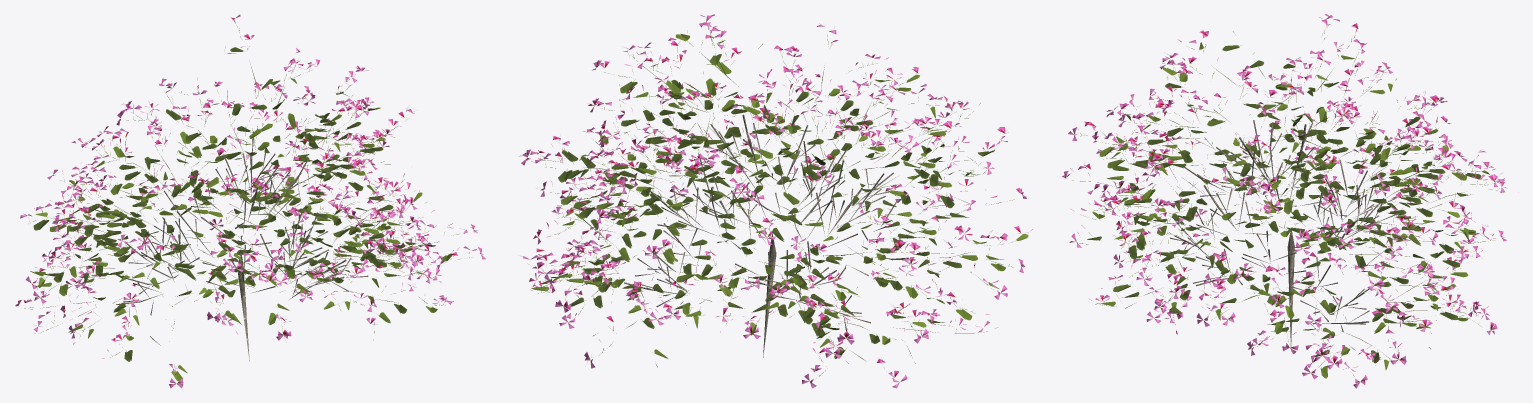
Rendered from prop-tree-orchid.42b1d828.glb.
The picture shows the model from 3 angles, left to right: view 1: azimuth 30°, elevation 25°; view 2: azimuth 150°, elevation 25°; view 3: azimuth 270°, elevation 25°; orthographic projection. The views are drawn at different scales.
Visible parts, largest first — view 1: Bauhinia_blakeana_HD_Bauhinia leaf 01_0, Bauhinia_blakeana_HD_Bauhinia petal 02_0, Bauhinia_blakeana_HD_Bauhinia leaf 03_0, Bauhinia_blakeana_HD_Bauhinia blak branches_0, Bauhinia_blakeana_HD_Bauhinia petal 03_0, Bauhinia_blakeana_HD_Bauhinia blak twig_0, Bauhinia_blakeana_HD_Bauhinia leaf 02_0, Bauhinia_blakeana_HD_Bauhinia petal 01_0, Bauhinia_blakeana_HD_Bauhinia leaf 04_0, Bauhinia_blakeana_HD_Bauhinia recept 03_0, Bauhinia_blakeana_HD_Bauhinia flw stalk 01_0, Bauhinia_blakeana_HD_Bauhinia blak trunk_0; view 2: Bauhinia_blakeana_HD_Bauhinia leaf 01_0, Bauhinia_blakeana_HD_Bauhinia petal 02_0, Bauhinia_blakeana_HD_Bauhinia blak branches_0, Bauhinia_blakeana_HD_Bauhinia leaf 03_0, Bauhinia_blakeana_HD_Bauhinia petal 03_0, Bauhinia_blakeana_HD_Bauhinia leaf 02_0, Bauhinia_blakeana_HD_Bauhinia petal 01_0, Bauhinia_blakeana_HD_Bauhinia blak twig_0, Bauhinia_blakeana_HD_Bauhinia leaf 04_0, Bauhinia_blakeana_HD_Bauhinia flw stalk 01_0, Bauhinia_blakeana_HD_Bauhinia recept 03_0, Bauhinia_blakeana_HD_Bauhinia blak trunk_0; view 3: Bauhinia_blakeana_HD_Bauhinia leaf 01_0, Bauhinia_blakeana_HD_Bauhinia petal 02_0, Bauhinia_blakeana_HD_Bauhinia leaf 03_0, Bauhinia_blakeana_HD_Bauhinia blak branches_0, Bauhinia_blakeana_HD_Bauhinia petal 03_0, Bauhinia_blakeana_HD_Bauhinia petal 01_0, Bauhinia_blakeana_HD_Bauhinia leaf 02_0, Bauhinia_blakeana_HD_Bauhinia blak twig_0, Bauhinia_blakeana_HD_Bauhinia leaf 04_0, Bauhinia_blakeana_HD_Bauhinia flw stalk 01_0, Bauhinia_blakeana_HD_Bauhinia recept 03_0, Bauhinia_blakeana_HD_Bauhinia blak trunk_0.
Part boxes in pixels (<box>): Bauhinia_blakeana_HD_Bauhinia leaf 01_0: <box>33,80,435,361</box>; Bauhinia_blakeana_HD_Bauhinia petal 02_0: <box>15,14,481,383</box>; Bauhinia_blakeana_HD_Bauhinia leaf 03_0: <box>30,53,437,373</box>; Bauhinia_blakeana_HD_Bauhinia blak branches_0: <box>116,131,368,315</box>; Bauhinia_blakeana_HD_Bauhinia petal 03_0: <box>15,46,485,388</box>; Bauhinia_blakeana_HD_Bauhinia blak twig_0: <box>30,36,459,367</box>; Bauhinia_blakeana_HD_Bauhinia leaf 02_0: <box>50,47,452,323</box>; Bauhinia_blakeana_HD_Bauhinia petal 01_0: <box>23,17,457,341</box>; Bauhinia_blakeana_HD_Bauhinia leaf 04_0: <box>35,107,422,381</box>; Bauhinia_blakeana_HD_Bauhinia recept 03_0: <box>30,19,469,367</box>; Bauhinia_blakeana_HD_Bauhinia flw stalk 01_0: <box>24,25,471,378</box>; Bauhinia_blakeana_HD_Bauhinia blak trunk_0: <box>167,194,300,361</box>; Bauhinia_blakeana_HD_Bauhinia leaf 01_0: <box>550,64,994,358</box>; Bauhinia_blakeana_HD_Bauhinia petal 02_0: <box>523,14,1025,383</box>; Bauhinia_blakeana_HD_Bauhinia blak branches_0: <box>624,114,915,331</box>; Bauhinia_blakeana_HD_Bauhinia leaf 03_0: <box>531,40,1005,347</box>; Bauhinia_blakeana_HD_Bauhinia petal 03_0: <box>521,22,1027,388</box>; Bauhinia_blakeana_HD_Bauhinia leaf 02_0: <box>561,53,1003,358</box>; Bauhinia_blakeana_HD_Bauhinia petal 01_0: <box>528,23,1021,377</box>; Bauhinia_blakeana_HD_Bauhinia blak twig_0: <box>533,38,1012,376</box>; Bauhinia_blakeana_HD_Bauhinia leaf 04_0: <box>566,33,1028,335</box>; Bauhinia_blakeana_HD_Bauhinia flw stalk 01_0: <box>528,35,1022,378</box>; Bauhinia_blakeana_HD_Bauhinia recept 03_0: <box>530,30,1032,363</box>; Bauhinia_blakeana_HD_Bauhinia blak trunk_0: <box>677,176,867,357</box>; Bauhinia_blakeana_HD_Bauhinia leaf 01_0: <box>1087,60,1482,363</box>; Bauhinia_blakeana_HD_Bauhinia petal 02_0: <box>1064,14,1504,383</box>; Bauhinia_blakeana_HD_Bauhinia leaf 03_0: <box>1092,42,1475,378</box>; Bauhinia_blakeana_HD_Bauhinia blak branches_0: <box>1170,120,1399,331</box>; Bauhinia_blakeana_HD_Bauhinia petal 03_0: <box>1062,19,1506,388</box>; Bauhinia_blakeana_HD_Bauhinia petal 01_0: <box>1066,23,1499,362</box>; Bauhinia_blakeana_HD_Bauhinia leaf 02_0: <box>1107,45,1457,328</box>; Bauhinia_blakeana_HD_Bauhinia blak twig_0: <box>1080,31,1492,367</box>; Bauhinia_blakeana_HD_Bauhinia leaf 04_0: <box>1124,67,1489,318</box>; Bauhinia_blakeana_HD_Bauhinia flw stalk 01_0: <box>1072,25,1504,376</box>; Bauhinia_blakeana_HD_Bauhinia recept 03_0: <box>1070,28,1518,354</box>; Bauhinia_blakeana_HD_Bauhinia blak trunk_0: <box>1205,186,1342,351</box>.
Size of the model in its own units: 4.79 by 3.56 by 4.34.
15 materials, 13 textured.
